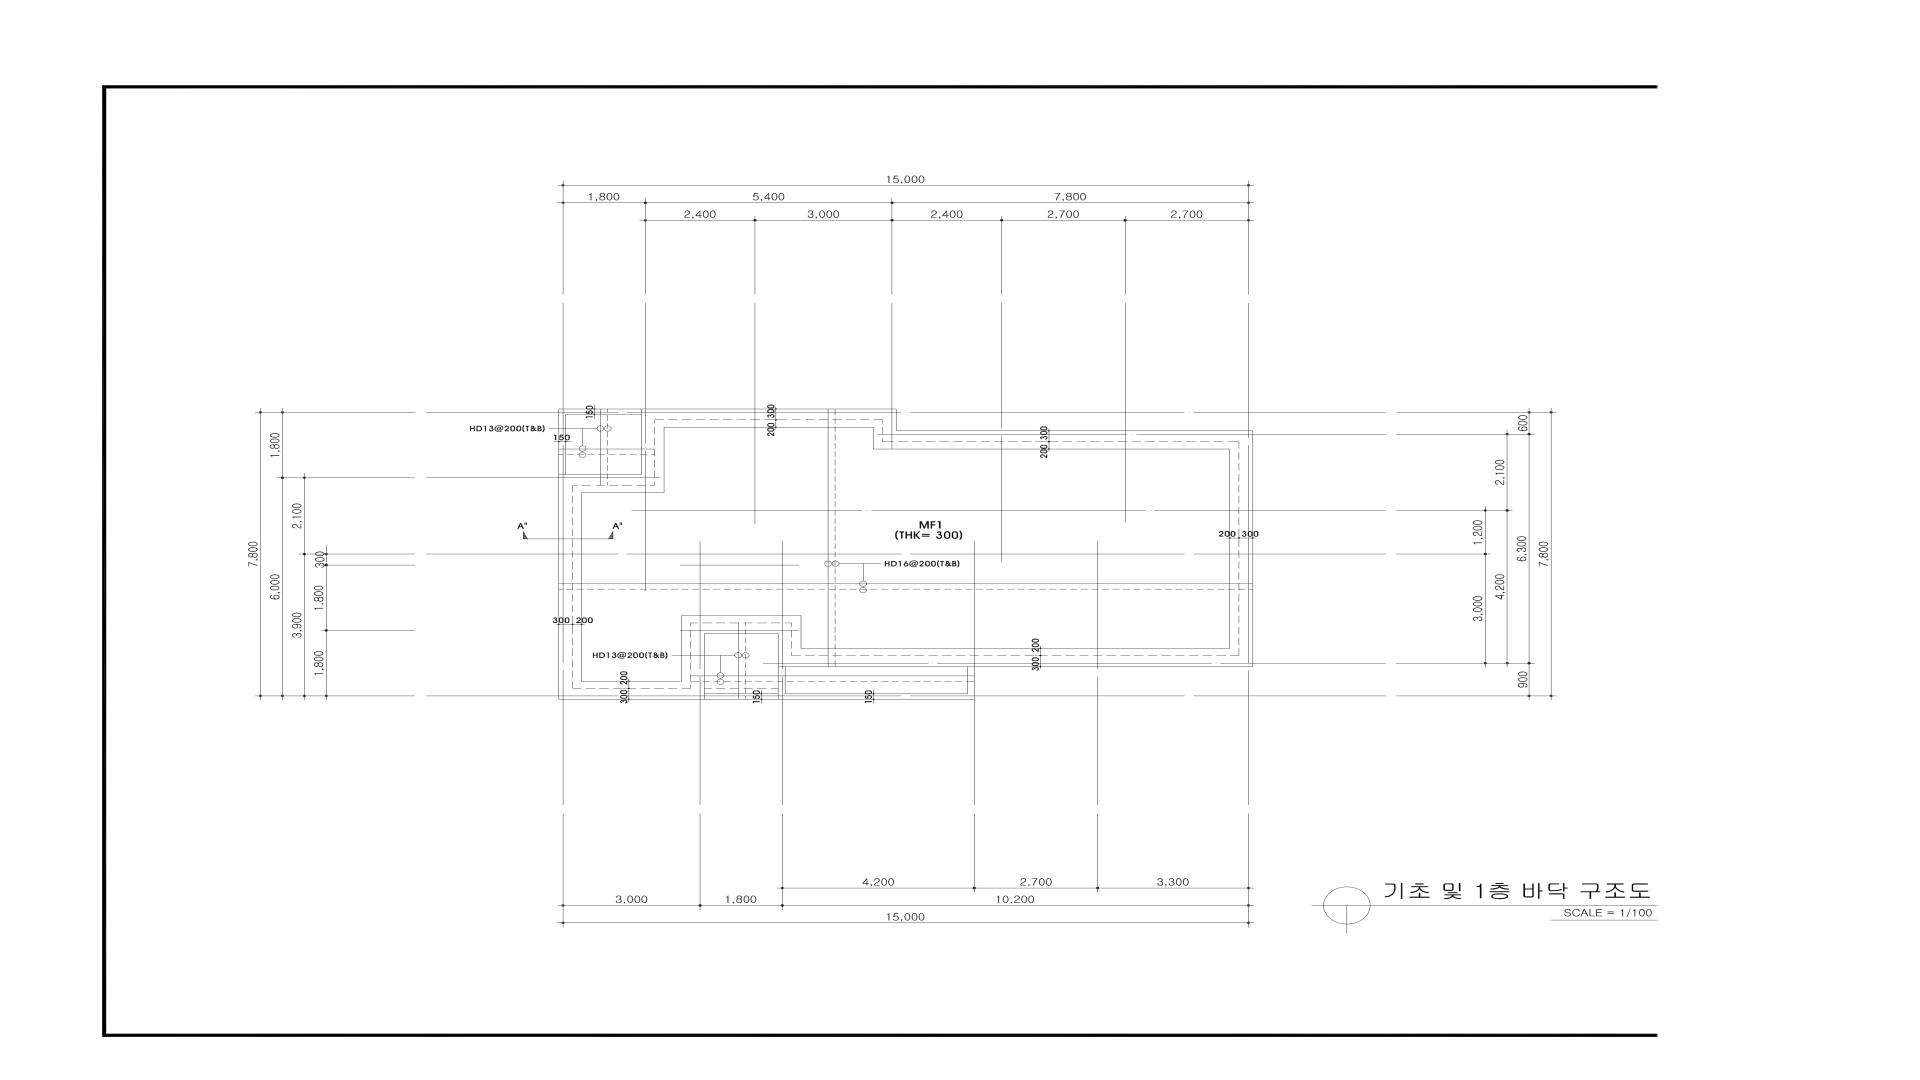wall: (778, 649, 1229, 667), (897, 431, 1253, 450), (1229, 450, 1253, 667), (641, 409, 897, 427), (559, 475, 582, 682), (559, 680, 682, 699), (682, 616, 778, 634), (582, 475, 665, 493), (682, 634, 704, 699), (641, 427, 665, 475), (786, 694, 975, 699), (778, 616, 802, 649), (873, 427, 897, 450), (559, 409, 641, 414), (559, 414, 566, 475), (704, 694, 778, 699), (778, 667, 786, 699), (967, 667, 975, 694)
